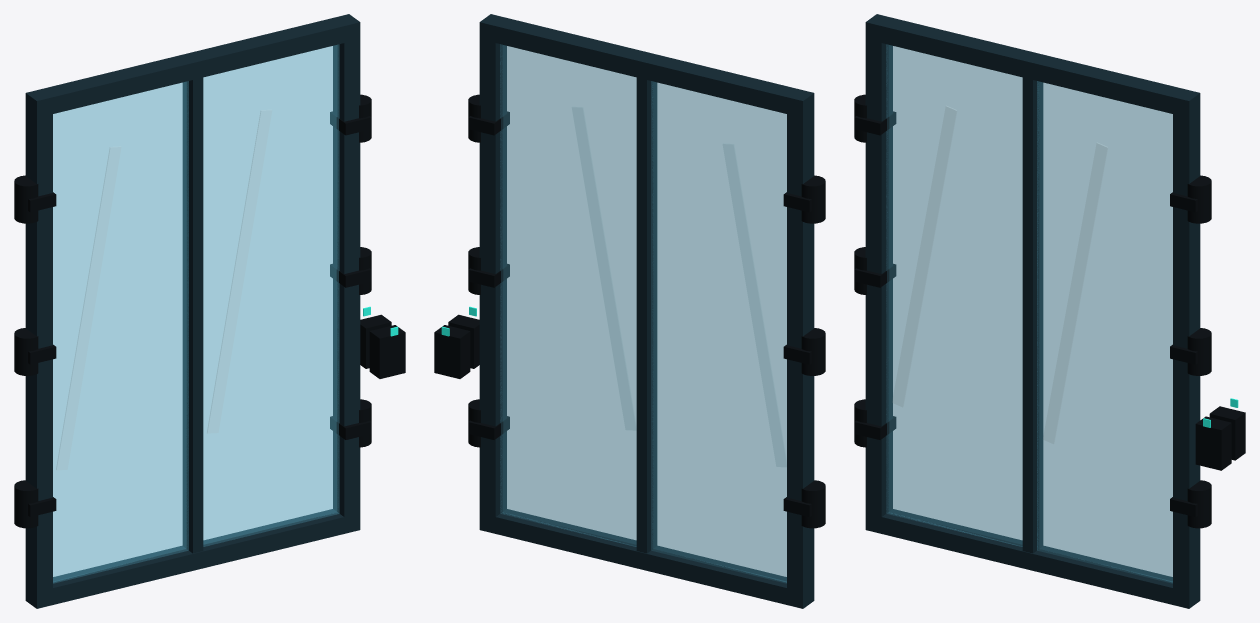
File: screen_window_2pan_2level.glb
3 renders of one model, left to right at view 1: azimuth 30°, elevation 25°; view 2: azimuth 150°, elevation 25°; view 3: azimuth 330°, elevation 25°, orthographic.
Parts seen in each view (by area): view 1: Glass_Pane_2, Glass_Pane_1, Frame_Right, Frame_Left, Mullion_1, Frame_Top, Frame_Bottom, Reflection_Stripe_2, Reflection_Stripe_1, Control_Front_Box, Hinge_Left_0.2, Hinge_Left_0.8 (+5 smaller); view 2: Glass_Pane_2, Glass_Pane_1, Frame_Right, Frame_Left, Mullion_1, Frame_Top, Frame_Bottom, Control_Back_Box, Hinge_Left_0.2, Hinge_Left_0.8, Hinge_Left_0.5, Control_Front_Box (+3 smaller); view 3: Glass_Pane_1, Glass_Pane_2, Frame_Left, Frame_Right, Mullion_1, Frame_Top, Frame_Bottom, Reflection_Stripe_2, Reflection_Stripe_1, Control_Front_Box, Hinge_Right_0.2, Control_Back_Box (+5 smaller).
Part boxes in pixels (bbox=[...]): Glass_Pane_2: bbox=[203, 44, 339, 546]; Glass_Pane_1: bbox=[53, 81, 188, 583]; Frame_Right: bbox=[333, 39, 360, 516]; Frame_Left: bbox=[25, 110, 52, 591]; Mullion_1: bbox=[182, 77, 203, 553]; Frame_Top: bbox=[25, 14, 360, 117]; Frame_Bottom: bbox=[25, 509, 360, 608]; Reflection_Stripe_2: bbox=[207, 110, 271, 432]; Reflection_Stripe_1: bbox=[56, 147, 120, 469]; Control_Front_Box: bbox=[369, 325, 405, 378]; Hinge_Left_0.2: bbox=[14, 480, 38, 528]; Hinge_Left_0.8: bbox=[14, 175, 38, 223]; Glass_Pane_2: bbox=[500, 44, 636, 546]; Glass_Pane_1: bbox=[651, 81, 786, 583]; Frame_Right: bbox=[479, 39, 506, 516]; Frame_Left: bbox=[787, 110, 814, 591]; Mullion_1: bbox=[636, 77, 657, 553]; Frame_Top: bbox=[479, 14, 814, 117]; Frame_Bottom: bbox=[479, 509, 814, 608]; Control_Back_Box: bbox=[434, 325, 470, 378]; Hinge_Left_0.2: bbox=[801, 480, 825, 528]; Hinge_Left_0.8: bbox=[801, 175, 825, 223]; Hinge_Left_0.5: bbox=[801, 328, 825, 375]; Control_Front_Box: bbox=[448, 314, 479, 368]; Glass_Pane_1: bbox=[886, 44, 1022, 546]; Glass_Pane_2: bbox=[1037, 81, 1172, 583]; Frame_Left: bbox=[865, 39, 892, 516]; Frame_Right: bbox=[1173, 110, 1200, 591]; Mullion_1: bbox=[1022, 77, 1043, 553]; Frame_Top: bbox=[865, 14, 1200, 117]; Frame_Bottom: bbox=[865, 509, 1200, 608]; Reflection_Stripe_2: bbox=[1043, 143, 1107, 443]; Reflection_Stripe_1: bbox=[892, 106, 956, 406]; Control_Front_Box: bbox=[1195, 416, 1231, 470]; Hinge_Right_0.2: bbox=[1187, 480, 1211, 528]; Control_Back_Box: bbox=[1209, 406, 1245, 460].
Bounding box in the file's own units: 2.33 × 3 × 0.3008.
